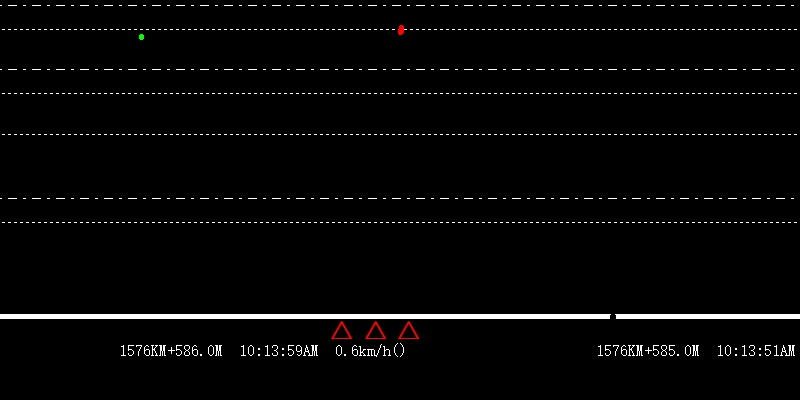face_1: (396, 20, 406, 39)
face_down: (136, 25, 145, 42)
